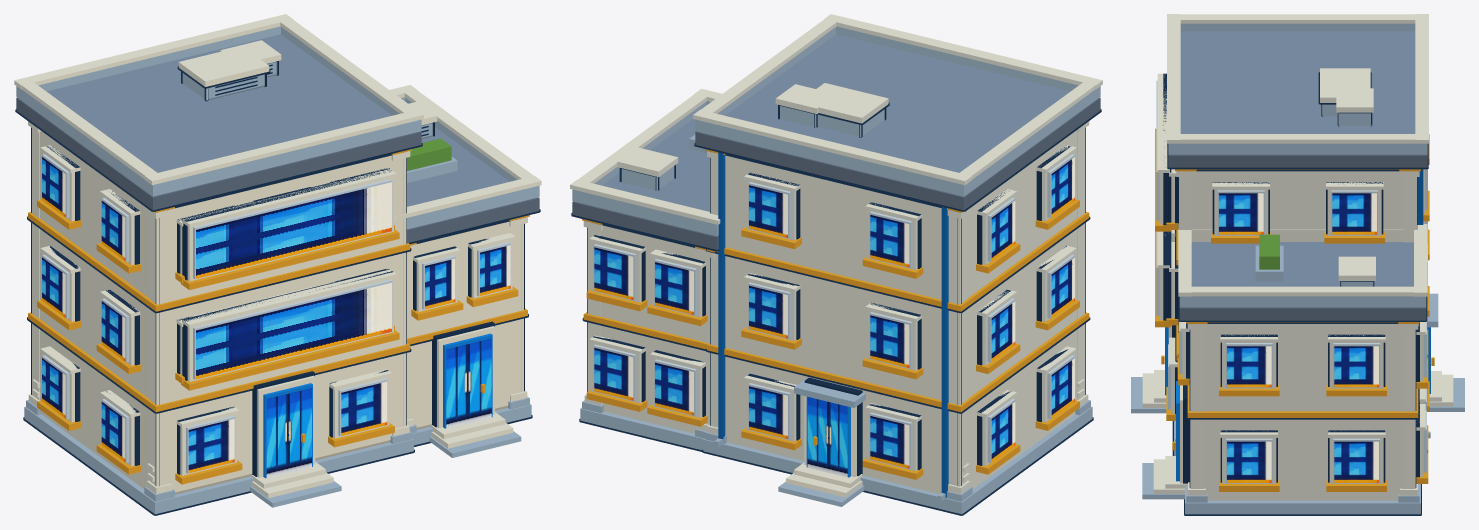
3 renders of one model, left to right at view 1: azimuth 30°, elevation 25°; view 2: azimuth 150°, elevation 25°; view 3: azimuth 270°, elevation 25°, orthographic. The views are drawn at different scales.
Parts seen in each view (by area): view 1: B06-04 阶梯退台办公楼; view 2: B06-04 阶梯退台办公楼; view 3: B06-04 阶梯退台办公楼.
Part boxes in pixels (<box>): B06-04 阶梯退台办公楼: <box>14,14,541,515</box>; B06-04 阶梯退台办公楼: <box>570,14,1102,515</box>; B06-04 阶梯退台办公楼: <box>1131,14,1464,515</box>.
Size of the model in its own units: 8.72 by 7.3 by 6.71.
Materials: 2 (1 with a texture image).
